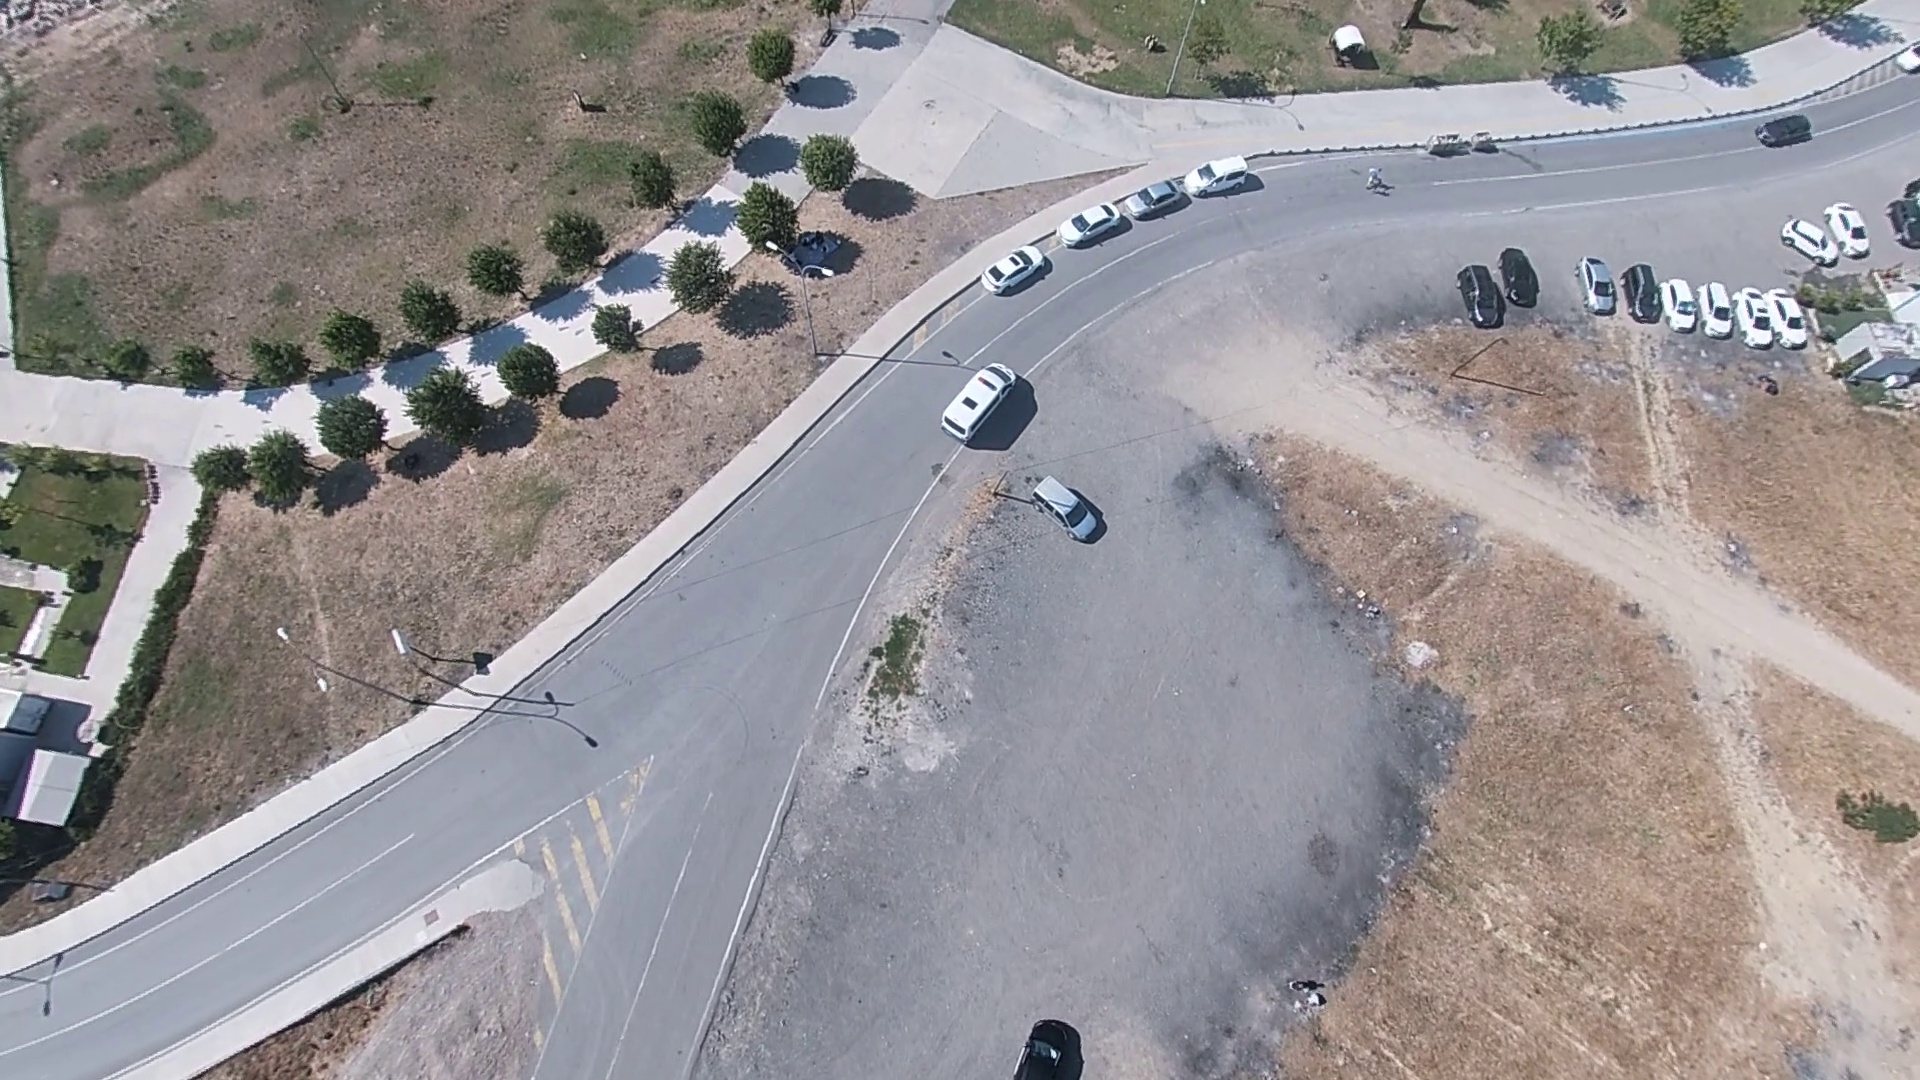arac: (1059, 146, 1259, 248), (944, 358, 1025, 441), (1030, 473, 1106, 539), (984, 242, 1058, 298), (1013, 1020, 1080, 1074), (1783, 210, 1837, 265)
insan: (465, 650, 494, 684)
